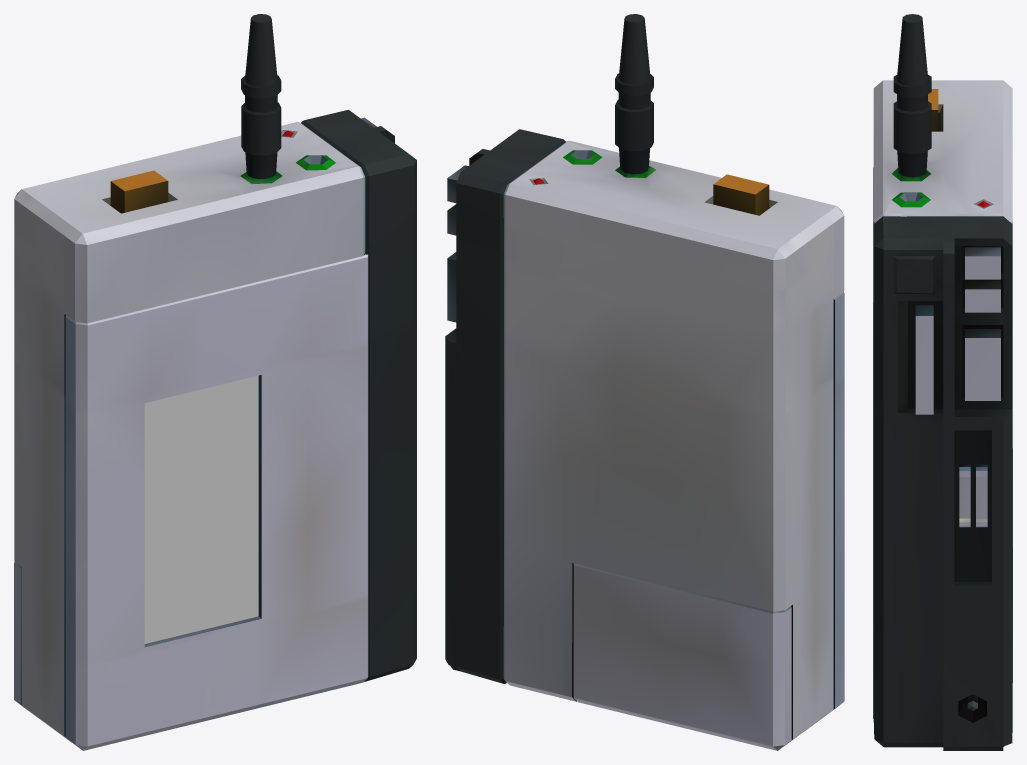
File: tape_deck.FBX
The picture shows the model from 3 angles, left to right: view 1: azimuth 30°, elevation 25°; view 2: azimuth 150°, elevation 25°; view 3: azimuth 270°, elevation 25°; orthographic projection. The views are drawn at different scales.
Visible parts, largest first — view 1: door, frame, clear plastic door, headphone_plug, hot line button, battery cover; view 2: frame, battery cover, headphone_plug, door, hot line button, play button; view 3: frame, headphone_plug, play button, stop button, rewind button, fast forward button, left volume slider, right volume slider, door, hot line button.
Boxes of the visible parts, x1,y1,x2,y2 form: door: [65, 254, 368, 750]; frame: [14, 110, 416, 742]; clear plastic door: [144, 375, 258, 643]; headphone_plug: [241, 14, 281, 179]; hot line button: [110, 170, 168, 213]; battery cover: [14, 562, 26, 709]; frame: [445, 129, 844, 744]; battery cover: [573, 563, 791, 750]; headphone_plug: [615, 14, 653, 174]; door: [830, 292, 844, 712]; hot line button: [713, 174, 769, 215]; play button: [447, 252, 456, 322]; frame: [873, 80, 1012, 750]; headphone_plug: [893, 14, 931, 177]; play button: [965, 329, 1000, 400]; stop button: [915, 305, 933, 414]; rewind button: [965, 280, 1000, 312]; fast forward button: [965, 247, 1000, 279]; left volume slider: [959, 464, 970, 527]; right volume slider: [976, 464, 987, 527]; door: [873, 167, 873, 718]; hot line button: [928, 89, 938, 131].
Size of the model in its own units: 0.0937 by 0.1695 by 0.0322.
